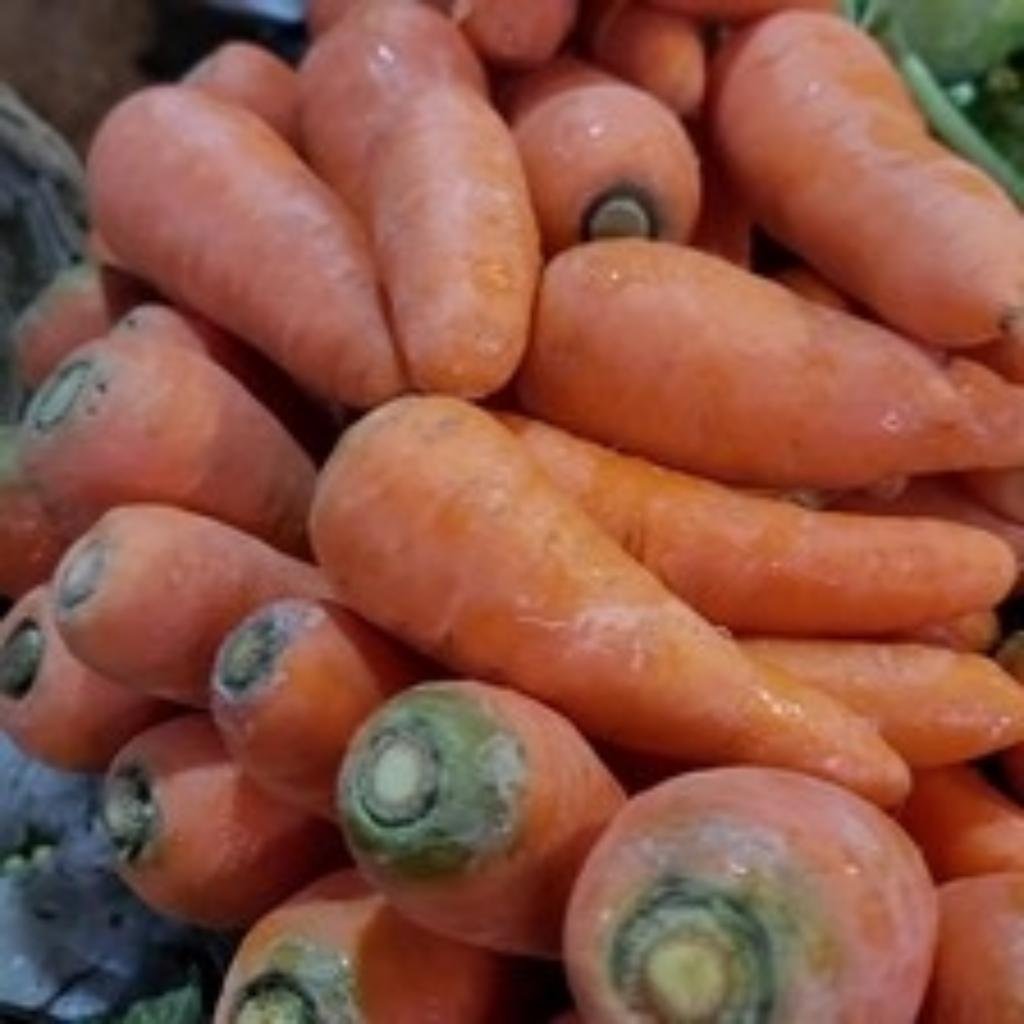carrot: (0, 0, 1015, 800), (306, 393, 901, 795), (564, 768, 932, 1024), (338, 680, 622, 955), (210, 598, 426, 817)
